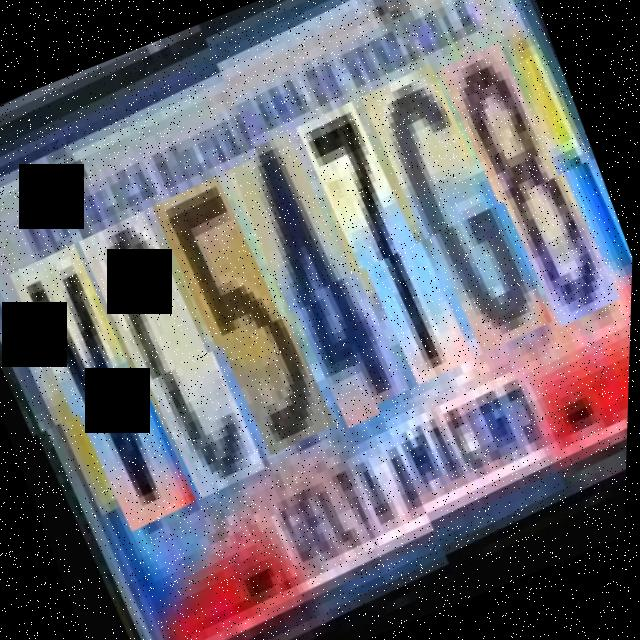4: (223, 138, 419, 440)
5: (150, 172, 340, 465)
7: (297, 107, 483, 406)
8: (439, 50, 631, 350)
C: (75, 205, 271, 508)
G: (362, 72, 562, 376)
V: (5, 237, 201, 540)
